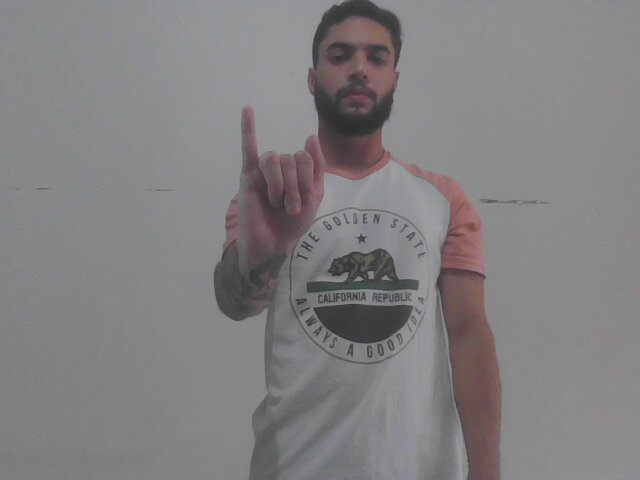i: (227, 102, 330, 258)
